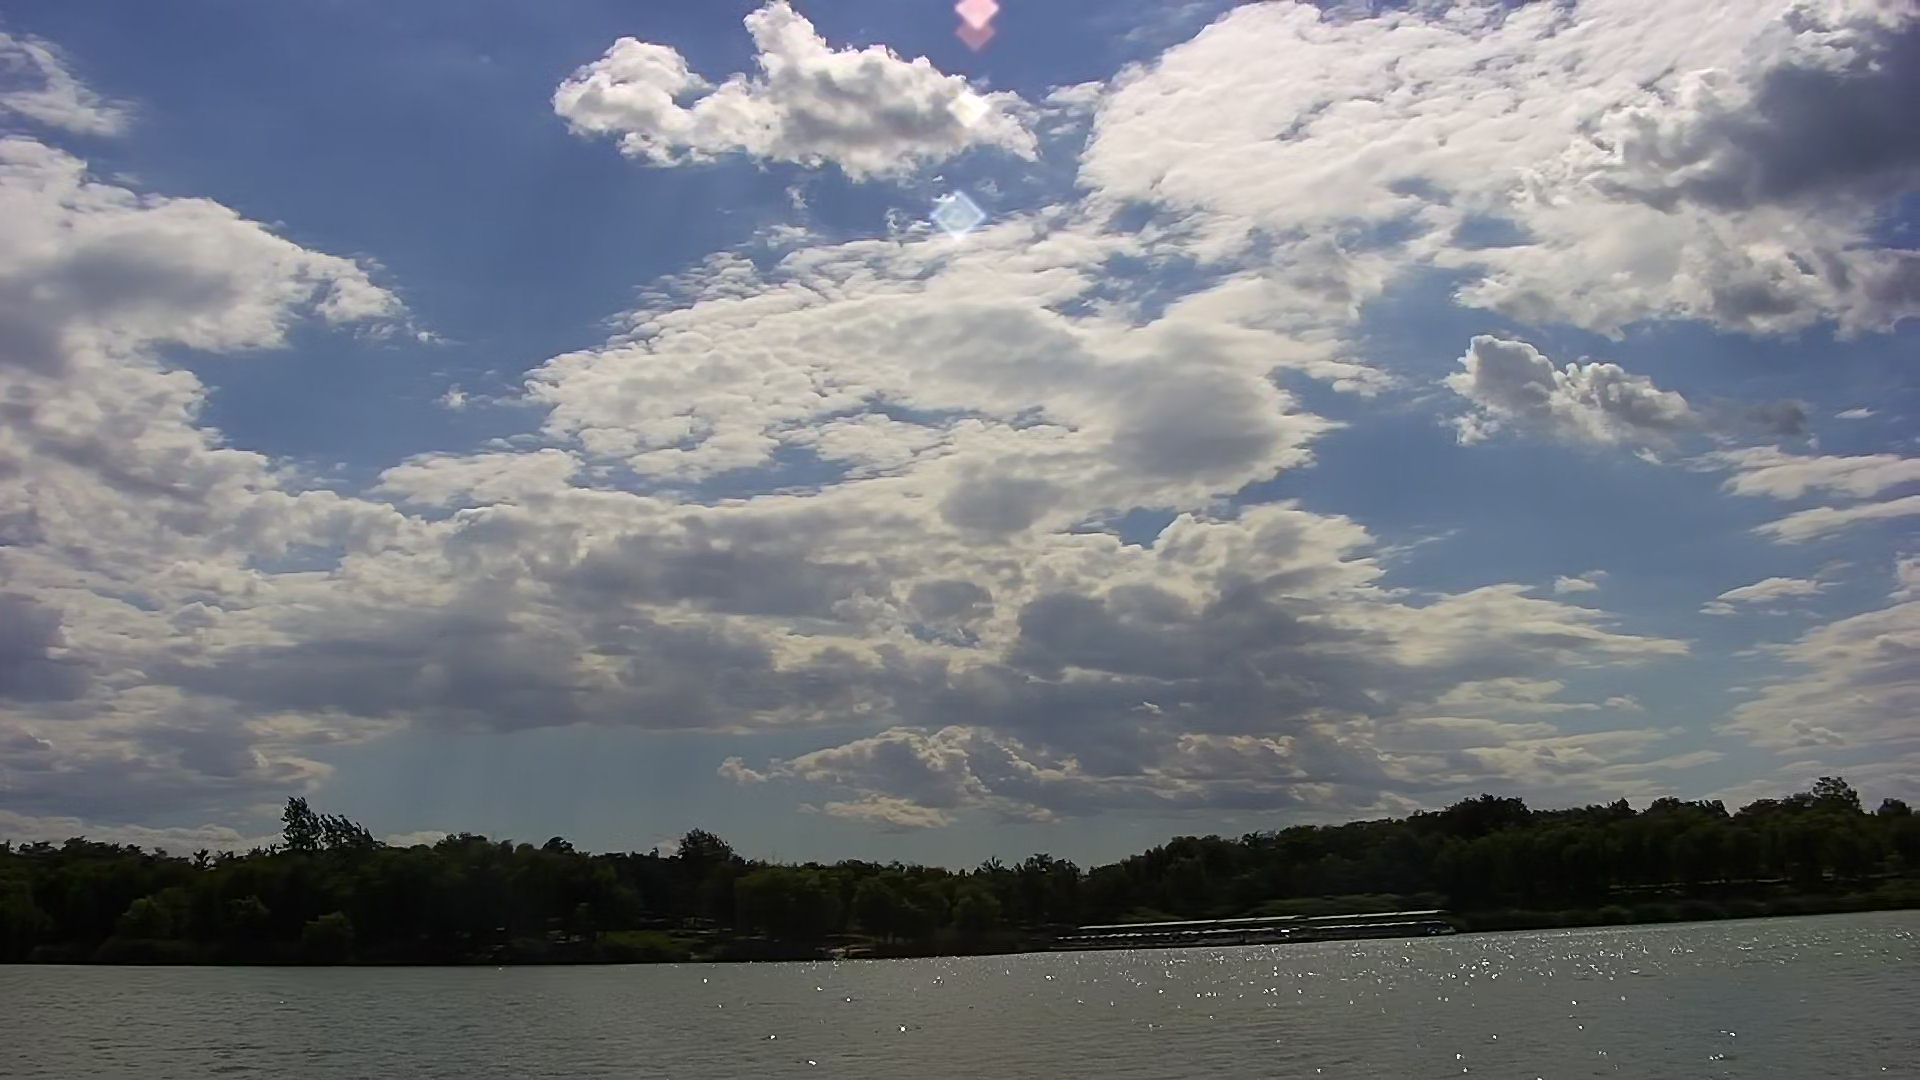harbor: (1059, 895, 1462, 949)
